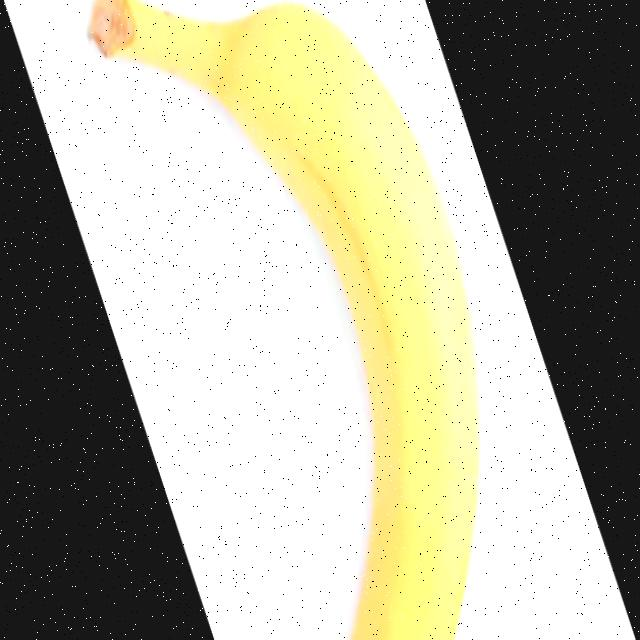god quality banana: (89, 0, 479, 638)
